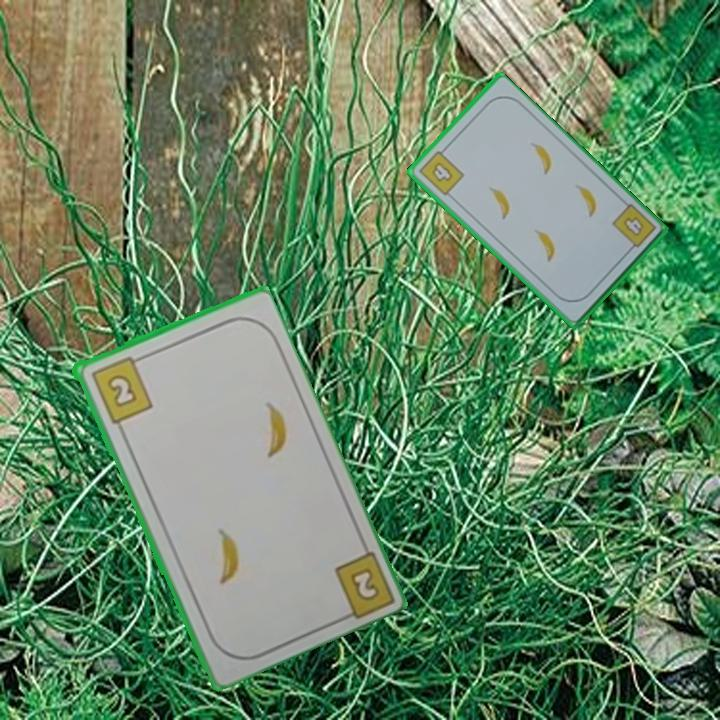2b: (87, 352, 155, 426), (346, 564, 382, 604)
4b: (415, 143, 467, 199), (608, 200, 659, 256)
